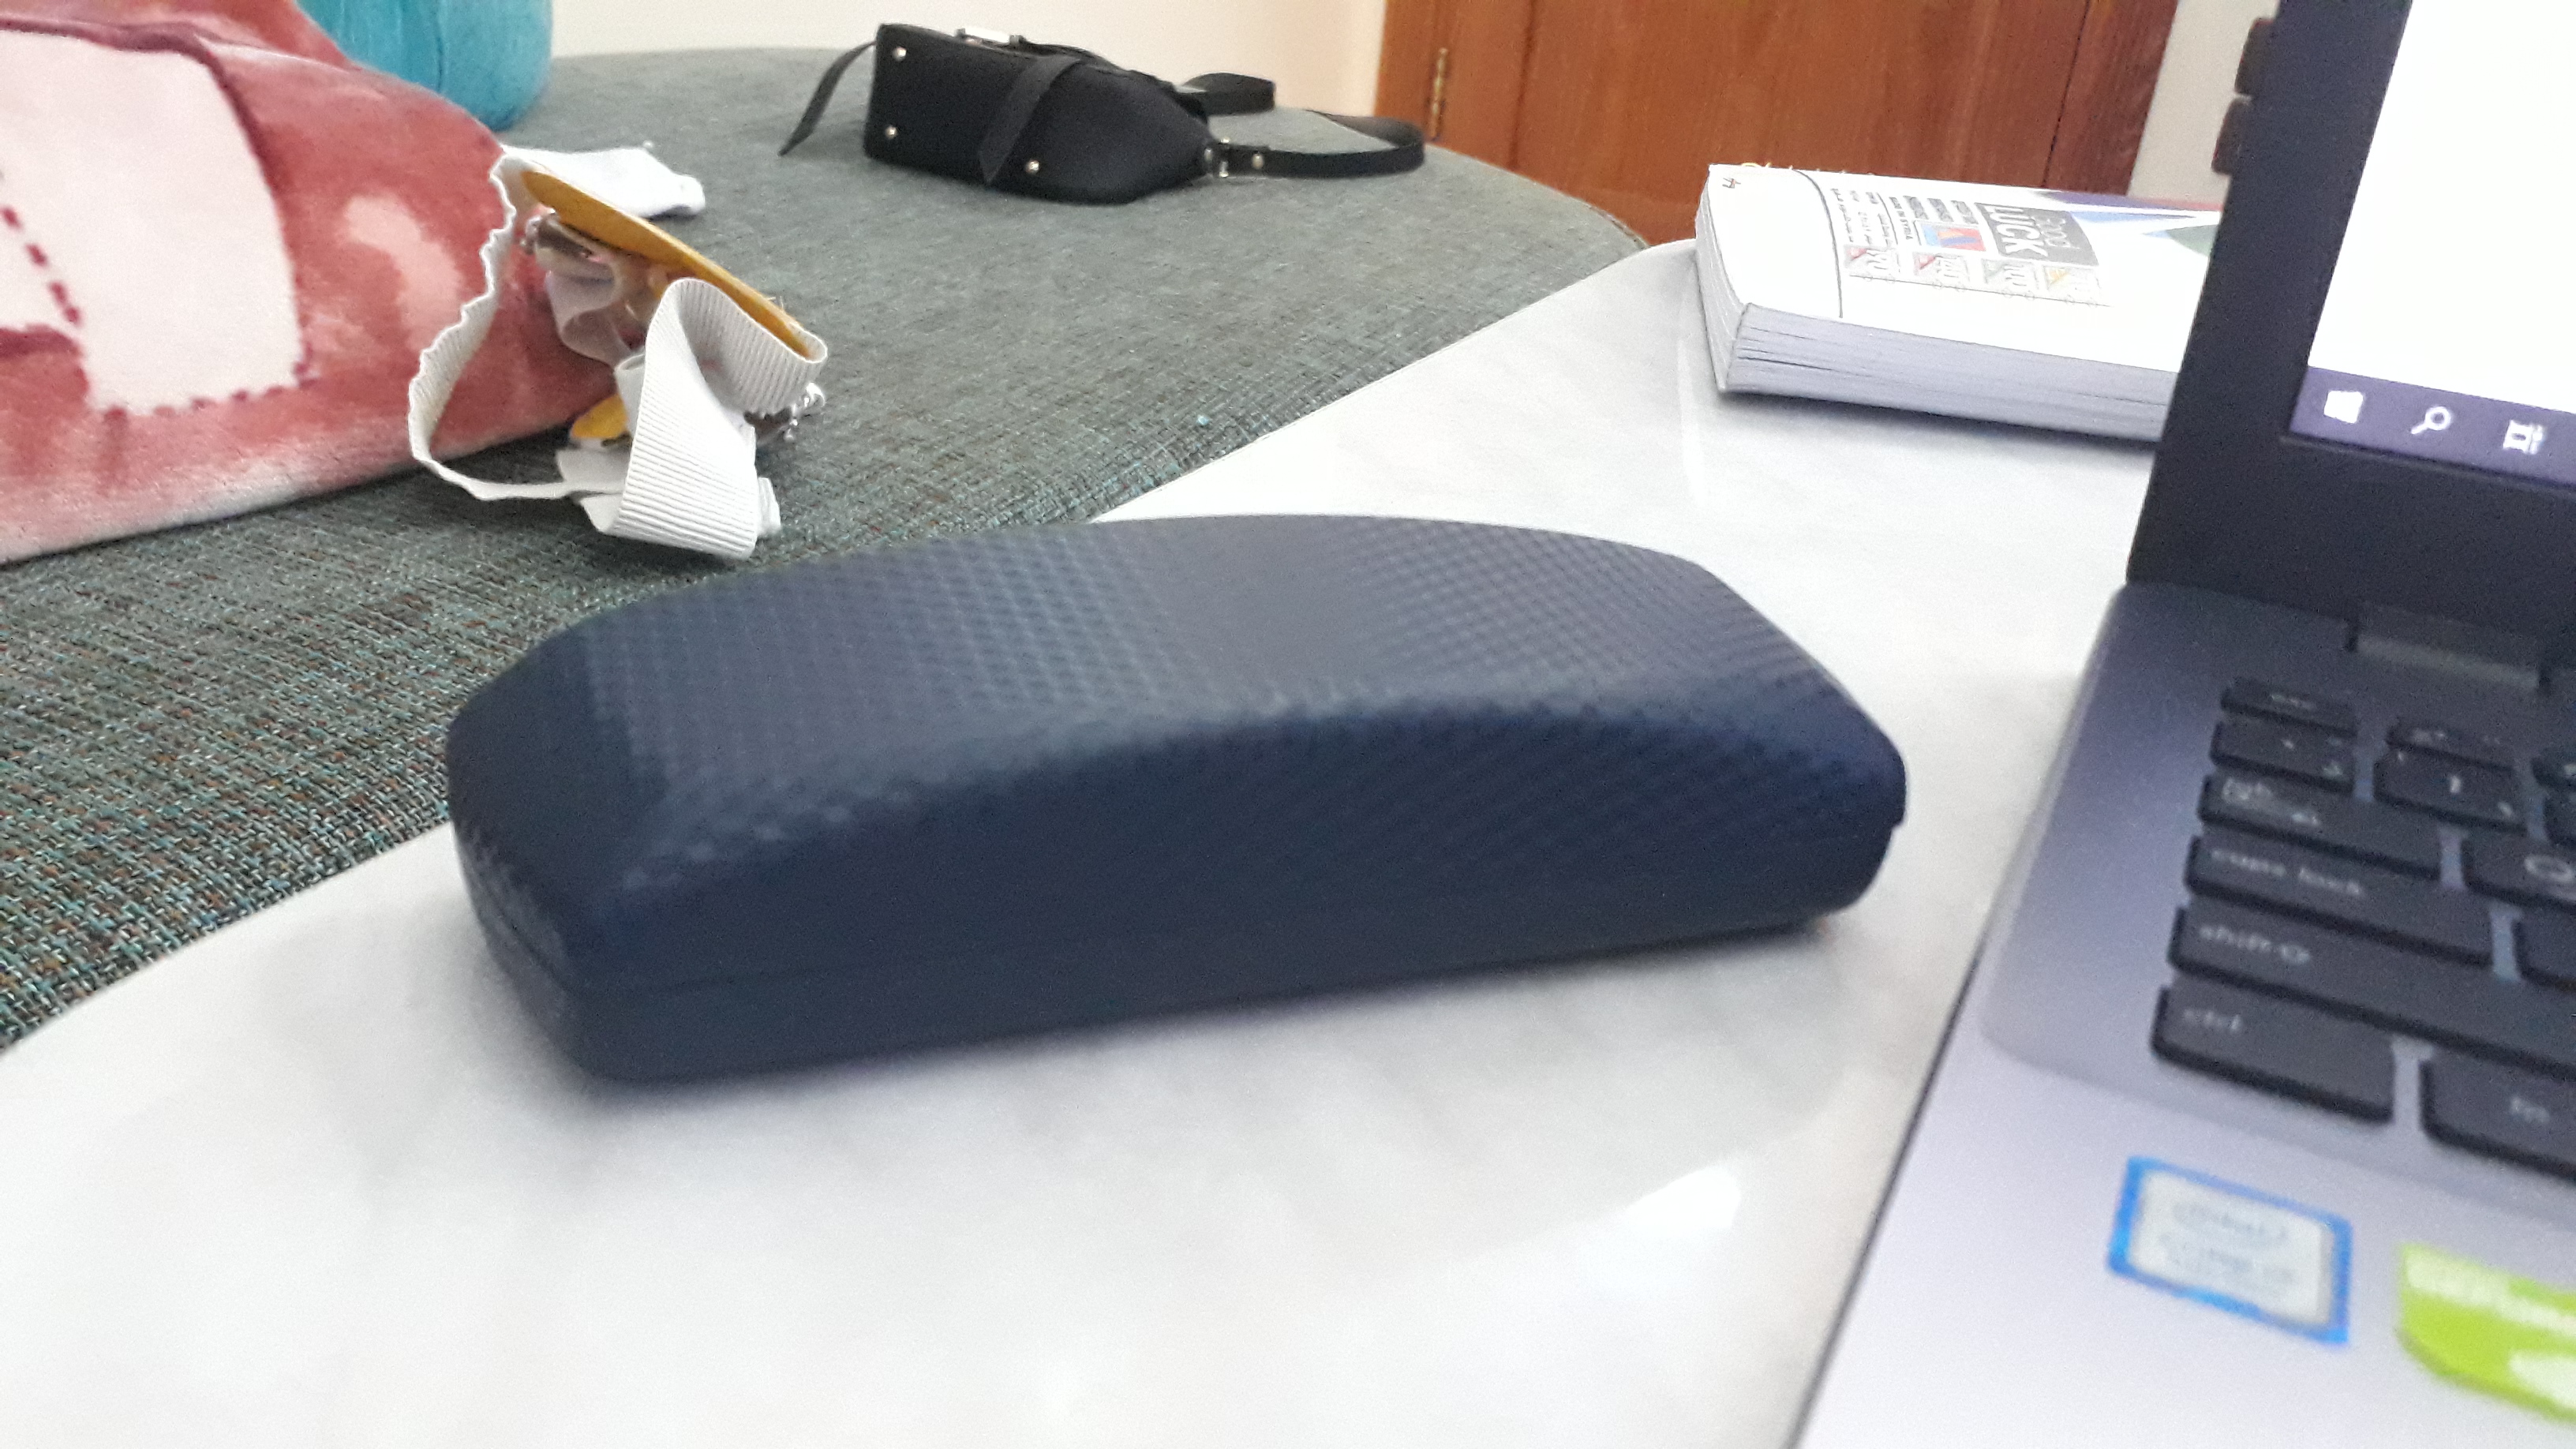nadar: (426, 490, 1925, 1113)
